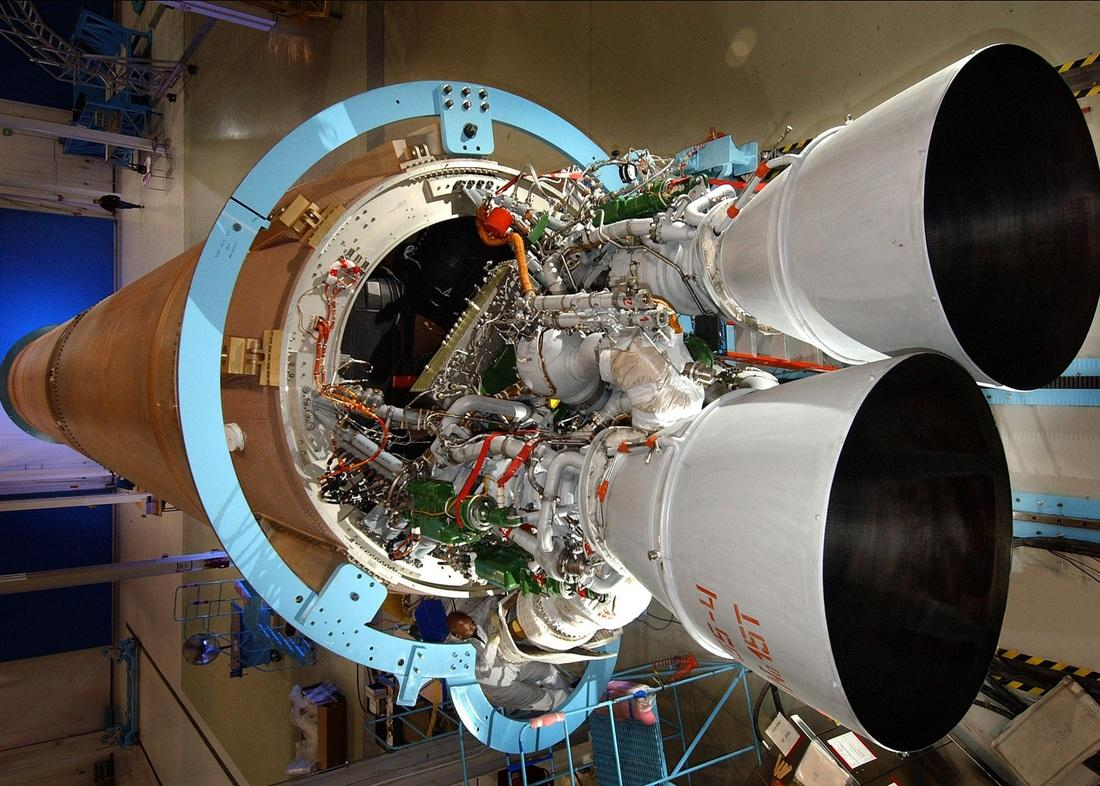body: (0, 154, 625, 599)
thruster: (587, 348, 1017, 758), (713, 41, 1100, 393)
